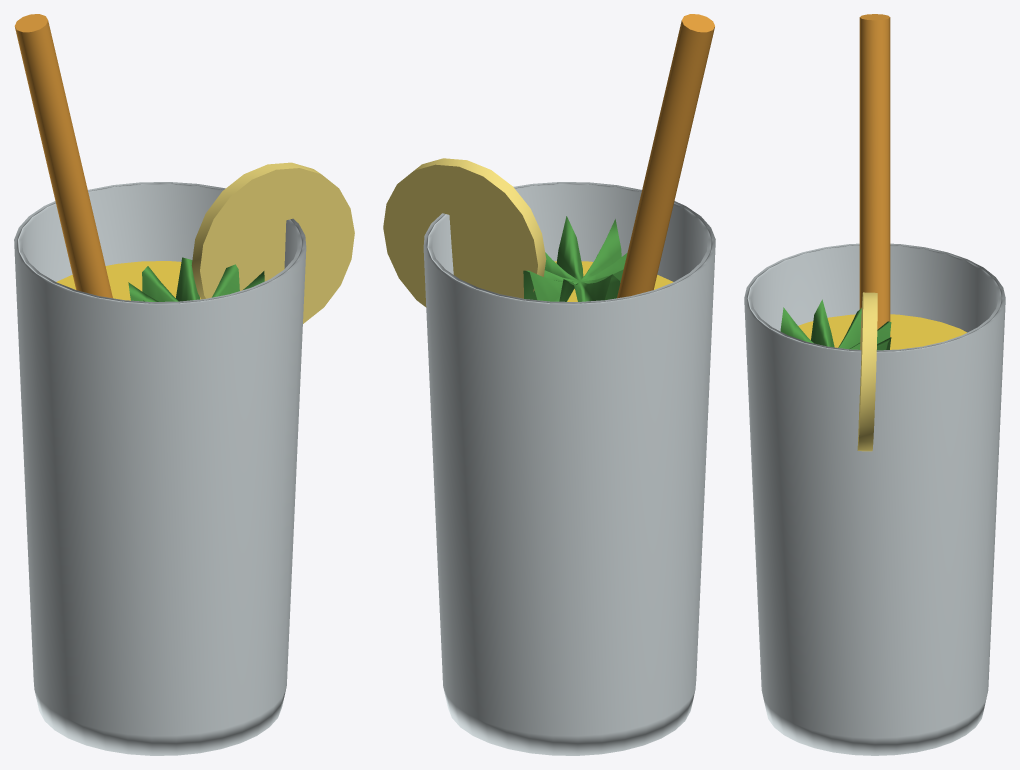
Rendered from lemonade.glb.
The picture shows the model from 3 angles, left to right: view 1: azimuth 30°, elevation 25°; view 2: azimuth 150°, elevation 25°; view 3: azimuth 270°, elevation 25°; orthographic projection. The views are drawn at different scales.
Visible parts, largest first — view 1: lemonade; view 2: lemonade; view 3: lemonade.
Boxes of the visible parts, box(x1,y1,x2,y2) form: lemonade: box(14, 14, 354, 755); lemonade: box(383, 14, 715, 755); lemonade: box(744, 14, 1005, 755).
Bounding box in the file's own units: 0.0936 × 0.1943 × 0.072.
